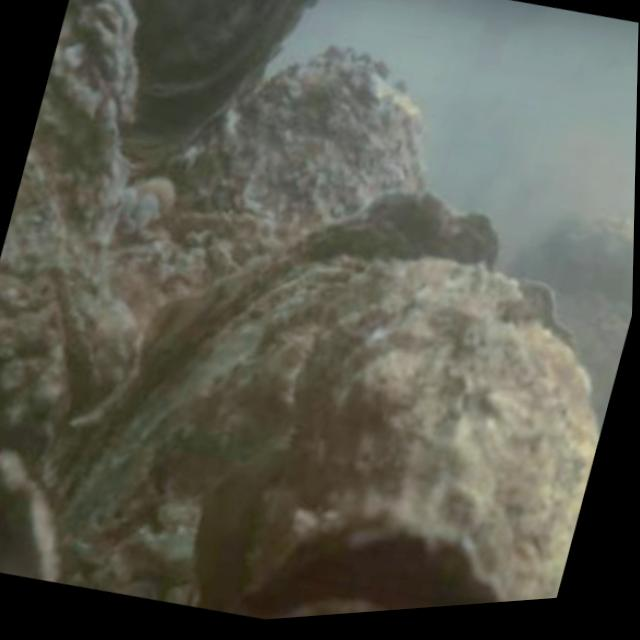Oyster-Closed: (0, 147, 88, 491)
Oyster-Indeterminate: (60, 258, 603, 612), (158, 49, 435, 261), (38, 0, 138, 411), (0, 447, 56, 582)
Oyster-Open: (47, 191, 500, 571), (223, 506, 506, 619), (122, 0, 322, 156)
